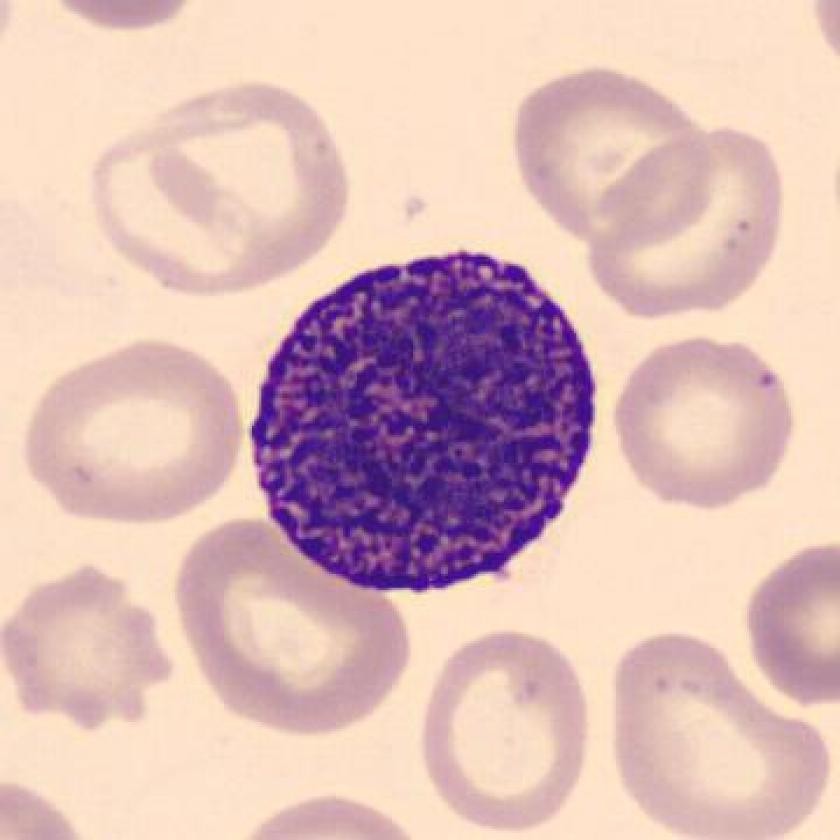basophil: (234, 242, 610, 598)
